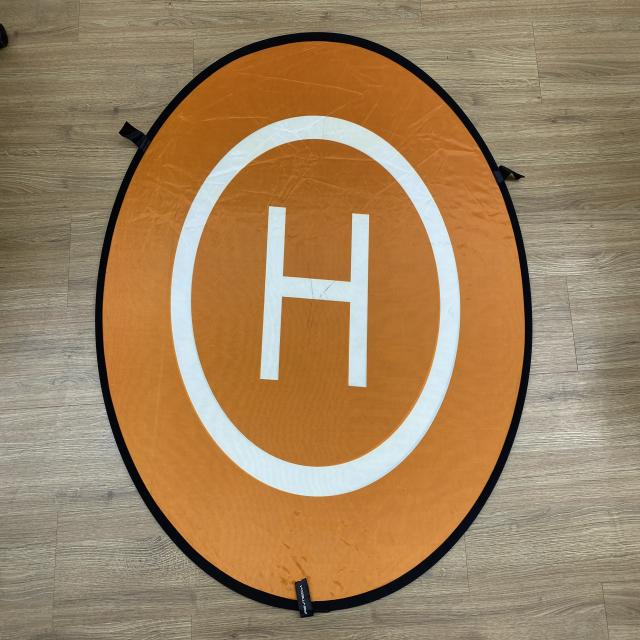helipad: (168, 113, 462, 497)
